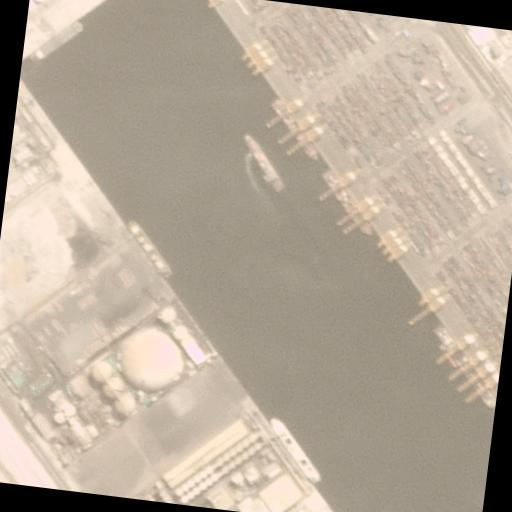ship: (424, 327, 504, 406), (262, 416, 328, 484), (318, 170, 384, 234), (266, 98, 326, 160), (120, 220, 180, 280), (237, 133, 290, 191), (33, 16, 84, 68)
